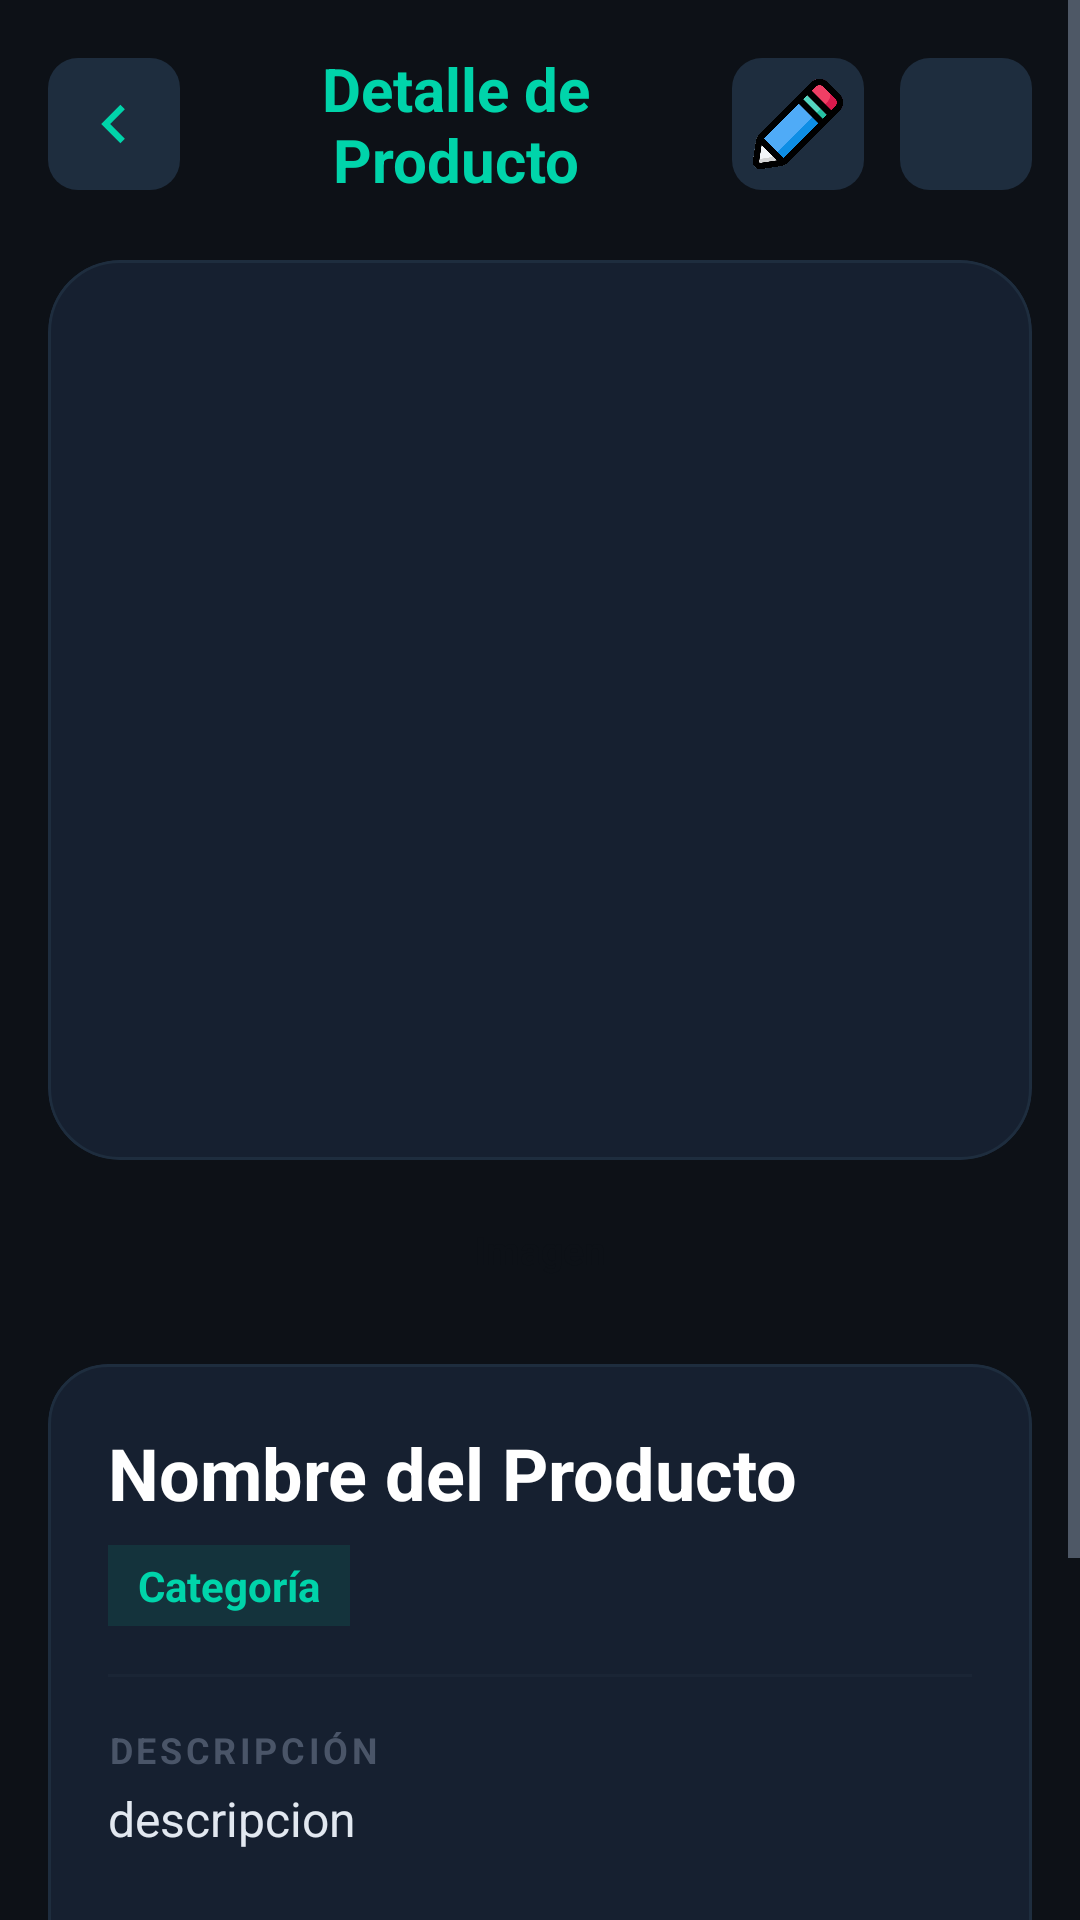

Icon click points for this 1080×1920 phone screenshot, format point (x, y):
back: point (114, 124)
editar: point (798, 124)
